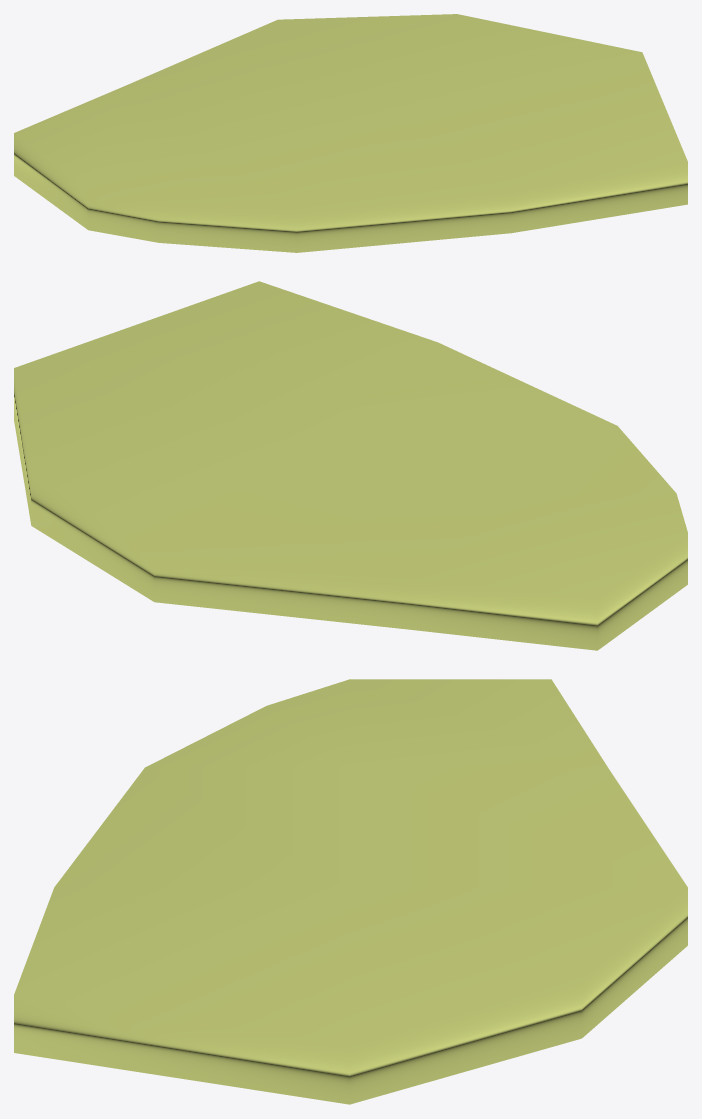
Rendered from rock3.fbx.
3 views of the same model, one above another, from view 1: azimuth 30°, elevation 25°; view 2: azimuth 150°, elevation 25°; view 3: azimuth 270°, elevation 25° (orthographic). The views are drawn at different scales.
Parts seen in each view (by area): view 1: rock-3; view 2: rock-3; view 3: rock-3.
Part boxes in pixels (left/top/right/bottom): rock-3: left=14, top=14, right=687, bottom=252; rock-3: left=14, top=281, right=687, bottom=650; rock-3: left=14, top=679, right=687, bottom=1104.
Bounding box in the file's own units: 153 × 11.3 × 119.
